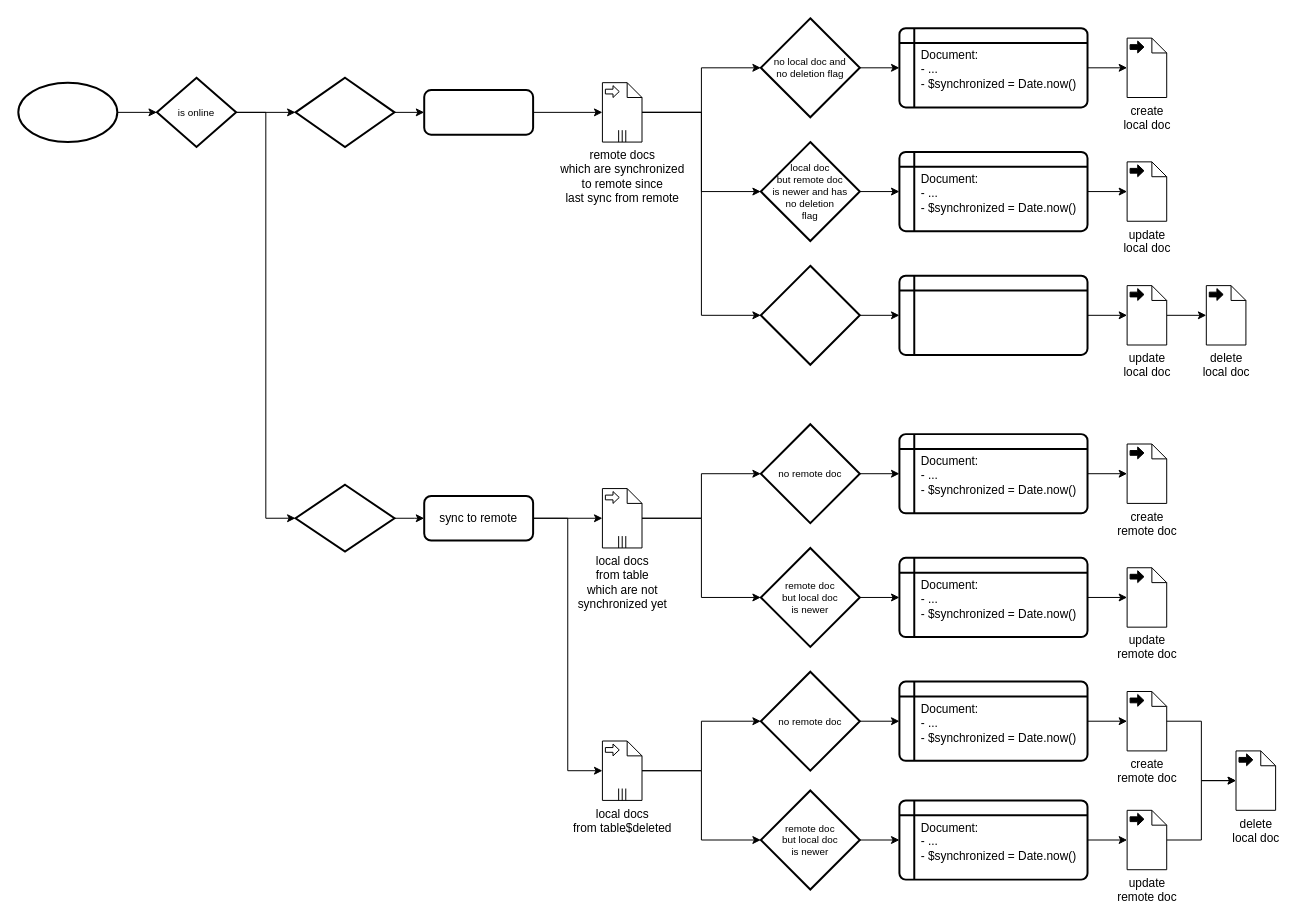
Some shapes in this 1296 by 922 pixel diagram are drawn without their labels. The shapes that lost their labels are listed below. From the top down, each one's centre as x and y in pixels, then its label:
(67,112): sync run
(344,112): path has not "to:" prefix
(478,112): sync from remote
(809,314): local doc but remote doc is newer and has a deletion flag
(993,314): Document: - ... - $deleted = 1 - $synchronized = Date.now()
(344,517): path has not "from:" prefix
